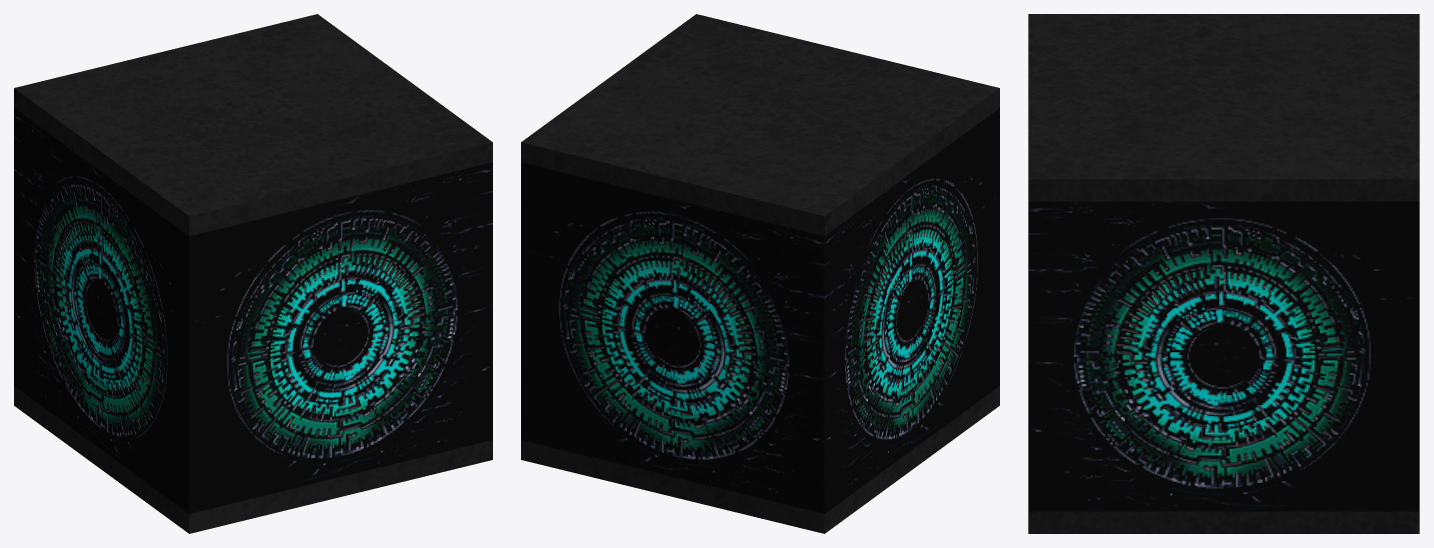
File: the_pandorica.glb
3 renders of one model, left to right at view 1: azimuth 30°, elevation 25°; view 2: azimuth 150°, elevation 25°; view 3: azimuth 270°, elevation 25°, orthographic. The views are drawn at different scales.
Parts seen in each view (by area): view 1: Object_2; view 2: Object_2; view 3: Object_2.
Boxes of the visible parts, <box> form: Object_2: <box>14,14,492,533</box>; Object_2: <box>521,14,999,533</box>; Object_2: <box>1028,14,1419,533</box>.
Size of the model in its own units: 2.75 by 2.75 by 2.75.
1 material, 1 textured.
